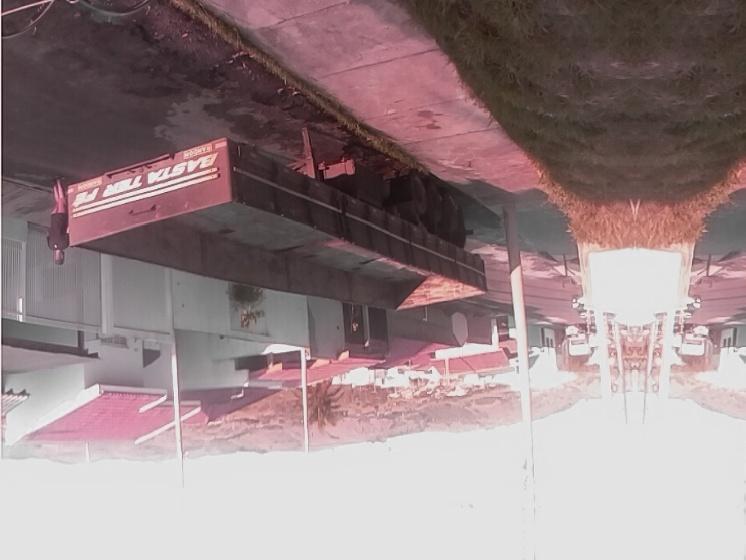person: (44, 172, 70, 266)
